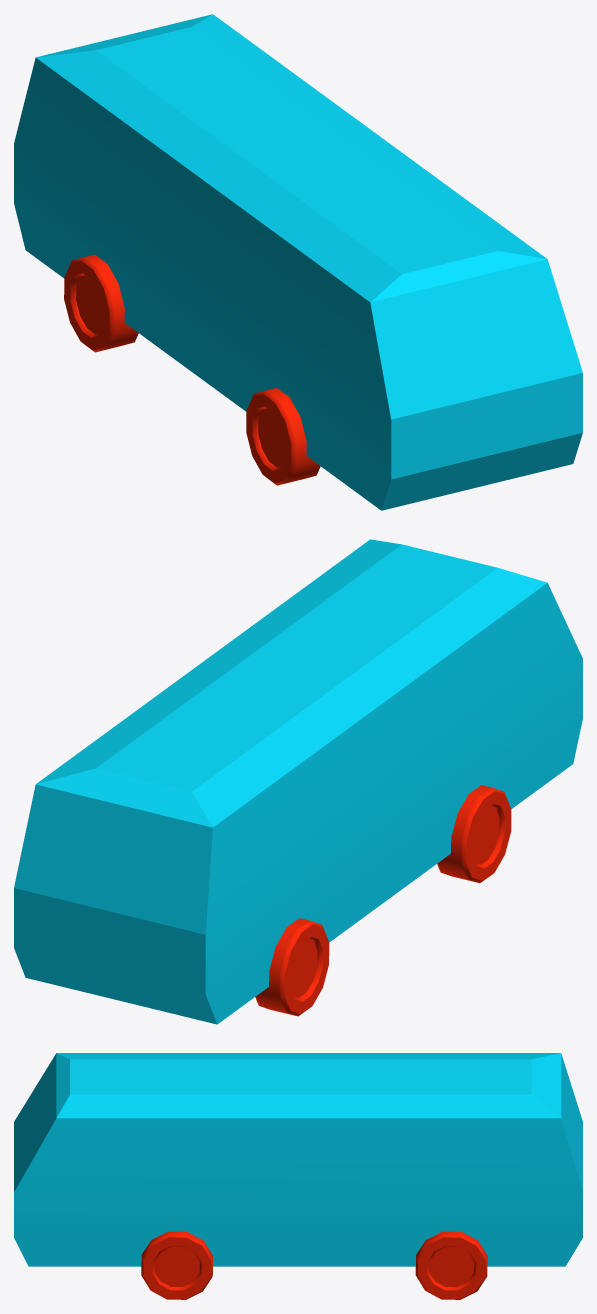
File: BusMesh.fbx
The picture shows the model from 3 angles, top to bottom: view 1: azimuth 30°, elevation 25°; view 2: azimuth 150°, elevation 25°; view 3: azimuth 270°, elevation 25°; orthographic projection. The views are drawn at different scales.
Parts seen in each view (by area): view 1: BusMesh; view 2: BusMesh; view 3: BusMesh.
Part boxes in pixels (x1,y1,x2,y2): BusMesh: (14, 14, 582, 510); BusMesh: (14, 539, 582, 1024); BusMesh: (14, 1053, 582, 1299).
Size of the model in its own units: 1.17 by 1.25 by 3.5.
